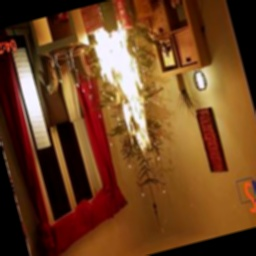fire: (77, 10, 169, 169)
